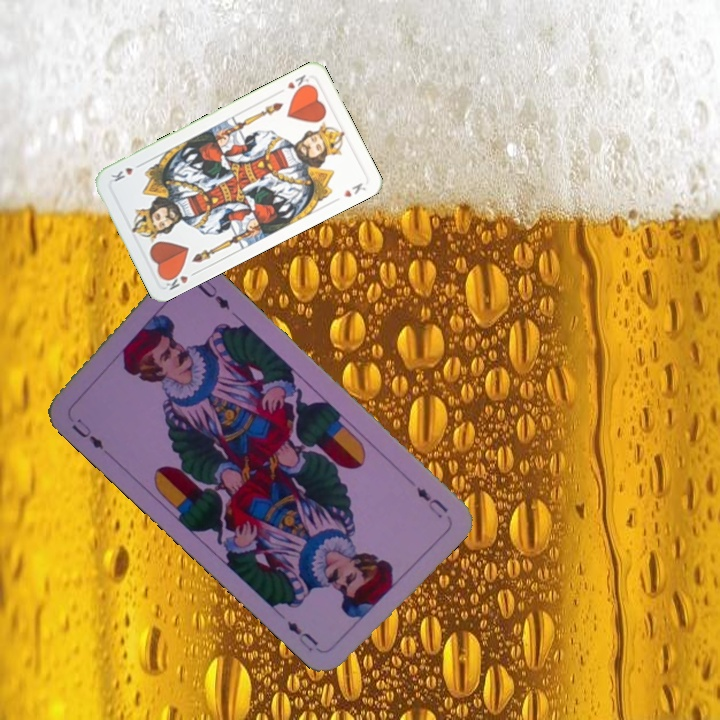EU: (412, 482, 451, 522), (67, 414, 107, 452)
HK: (159, 266, 200, 293), (283, 70, 313, 95)
